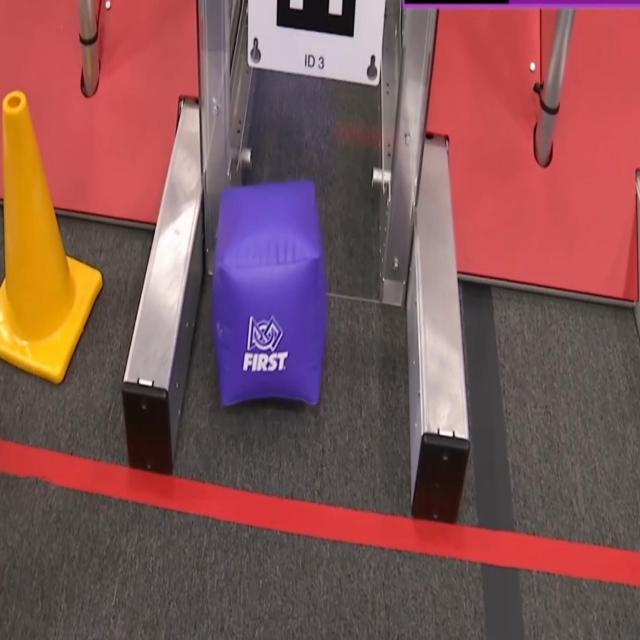frc_cone: (0, 89, 100, 389)
frc_cube: (209, 178, 325, 417)
